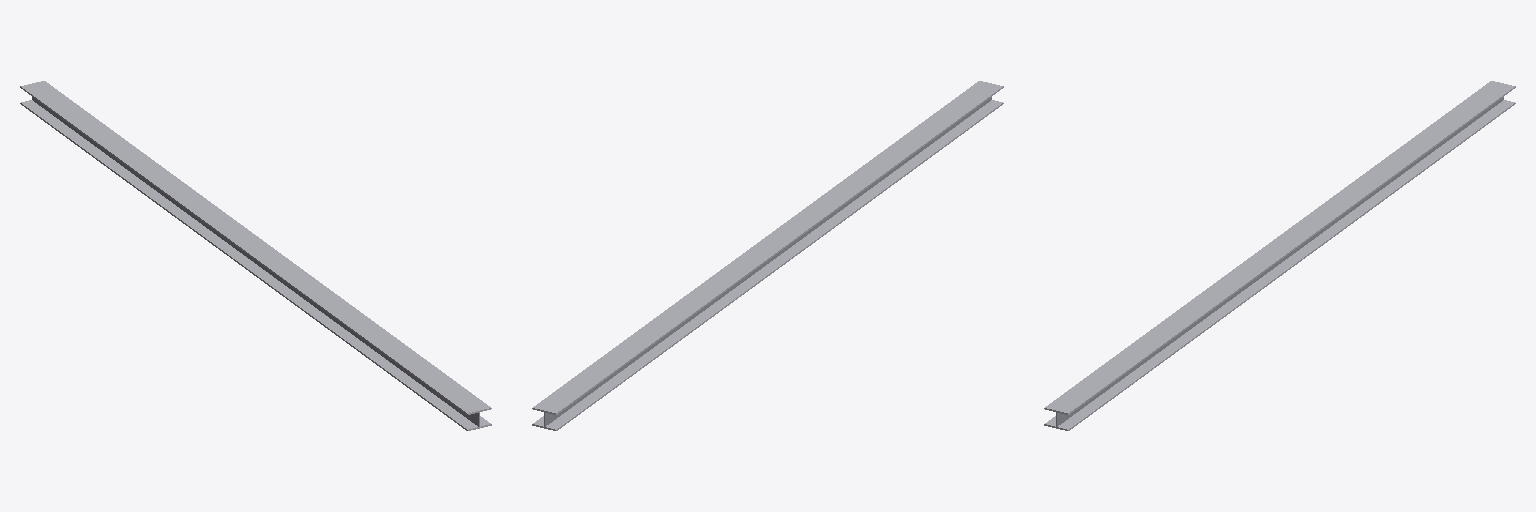
URDF robot description (h_bar):
<?xml version="1.0" ?>
<!-- =================================================================================== -->
<!-- |    This document was autogenerated by xacro from h_bar.xacro                    | -->
<!-- |    EDITING THIS FILE BY HAND IS NOT RECOMMENDED                                 | -->
<!-- =================================================================================== -->
<robot name="h_bar">
  <link name="world"/>
  <!-- Bottom leg (aligned with z-axis after rotation, below origin) -->
  <link name="hbar_bottom_leg">
    <visual>
      <origin rpy="0 1.57079633 0" xyz="0 0 0"/>
      <geometry>
        <!-- thickness x, profile width y, leg length along local z -->
        <box size="0.01 5.0 0.155"/>
      </geometry>
      <material name="hbar_material_bottom">
        <!-- Brushed steel-like gray -->
        <color rgba="0.75 0.75 0.78 1.0"/>
      </material>
    </visual>
    <collision>
      <origin rpy="0 1.57079633 0" xyz="0 0 0"/>
      <geometry>
        <box size="0.01 5.0 0.155"/>
      </geometry>
    </collision>
    <inertial>
      <origin rpy="0 0 0" xyz="0 0 0"/>
      <mass value="0.3333333333333333"/>
      <inertia ixx="0.6951118055555555" ixy="0.0" ixz="0.0" iyy="0.0006701388888888888" iyz="0.0" izz="0.6944472222222222"/>
    </inertial>
  </link>
  <!-- Top leg (aligned with z-axis after rotation, above origin) -->
  <link name="hbar_top_leg">
    <visual>
      <origin rpy="0 1.57079633 0" xyz="0 0 0"/>
      <geometry>
        <box size="0.01 5.0 0.155"/>
      </geometry>
      <material name="hbar_material_top">
        <!-- Brushed steel-like gray -->
        <color rgba="0.75 0.75 0.78 1.0"/>
      </material>
    </visual>
    <collision>
      <origin rpy="0 1.57079633 0" xyz="0 0 0"/>
      <geometry>
        <box size="0.01 5.0 0.155"/>
      </geometry>
    </collision>
    <inertial>
      <origin rpy="0 0 0" xyz="0 0 0"/>
      <mass value="0.3333333333333333"/>
      <inertia ixx="0.6951118055555555" ixy="0.0" ixz="0.0" iyy="0.0006701388888888888" iyz="0.0" izz="0.6944472222222222"/>
    </inertial>
  </link>
  <!-- Crossbar: vertical (aligned with z-axis) at the origin -->
  <link name="hbar_crossbar">
    <visual>
      <!-- Thickness in x,y, length in z -->
      <origin rpy="0 0 0" xyz="0 0 0"/>
      <geometry>
        <box size="0.01 5.0 0.1"/>
      </geometry>
      <material name="hbar_material_cross">
        <!-- Slightly darker steel for visual contrast -->
        <color rgba="0.65 0.65 0.7 1.0"/>
      </material>
    </visual>
    <collision>
      <origin rpy="0 0 0" xyz="0 0 0"/>
      <geometry>
        <box size="0.01 5.0 0.1"/>
      </geometry>
    </collision>
    <inertial>
      <origin rpy="0 0 0" xyz="0 0 0"/>
      <mass value="0.3333333333333333"/>
      <inertia ixx="0.6947222222222222" ixy="0.0" ixz="0.0" iyy="0.0002805555555555556" iyz="0.0" izz="0.6944472222222222"/>
    </inertial>
  </link>
  <!-- Fix crossbar to world; its center is at the macro pose -->
  <joint name="hbar_cross_fix" type="fixed">
    <parent link="world"/>
    <child link="hbar_crossbar"/>
    <origin rpy="0 0 0" xyz="0 0 0"/>
  </joint>
  <!-- Top leg: translated +L_leg/2 in x and +L_span/2 in z relative to crossbar -->
  <joint name="hbar_top_fix" type="fixed">
    <parent link="hbar_crossbar"/>
    <child link="hbar_top_leg"/>
    <origin rpy="0 0.0 0" xyz="0 0 0.05"/>
  </joint>
  <!-- Bottom leg: translated +L_leg/2 in x and -L_span/2 in z relative to crossbar -->
  <joint name="hbar_bottom_fix" type="fixed">
    <parent link="hbar_crossbar"/>
    <child link="hbar_bottom_leg"/>
    <origin rpy="0 0 0" xyz="0 0 -0.05"/>
  </joint>
</robot>

--- Render facts (derived) ---
The picture shows the robot from 3 angles, left to right: view 1: azimuth 30°, elevation 25°; view 2: azimuth 150°, elevation 25°; view 3: azimuth 330°, elevation 25°; orthographic projection.
Robot: h_bar — 4 links, 3 joints (3 fixed); root link world; default pose: all joints at 0.
Visible links, largest first — view 1: hbar_top_leg, hbar_bottom_leg, hbar_crossbar; view 2: hbar_top_leg, hbar_bottom_leg, hbar_crossbar; view 3: hbar_top_leg, hbar_bottom_leg, hbar_crossbar.
Boxes of the visible links, box(x1,y1,x2,y2) form: hbar_top_leg: box(20, 81, 491, 414); hbar_bottom_leg: box(20, 100, 491, 430); hbar_crossbar: box(32, 97, 479, 426); hbar_top_leg: box(532, 81, 1003, 414); hbar_bottom_leg: box(532, 100, 1003, 430); hbar_crossbar: box(544, 97, 991, 426); hbar_top_leg: box(1044, 81, 1515, 414); hbar_bottom_leg: box(1044, 100, 1515, 430); hbar_crossbar: box(1056, 97, 1503, 426).
Size in the robot's own frame: 0.155 by 5 by 0.11 metres.
Geometry: primitives only (box / cylinder / sphere), no mesh files.
